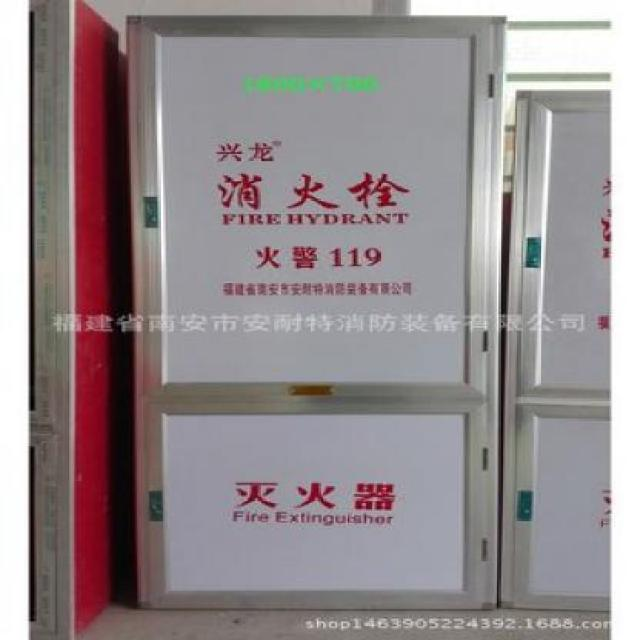firehydrant: (122, 11, 504, 614), (502, 85, 613, 614)
